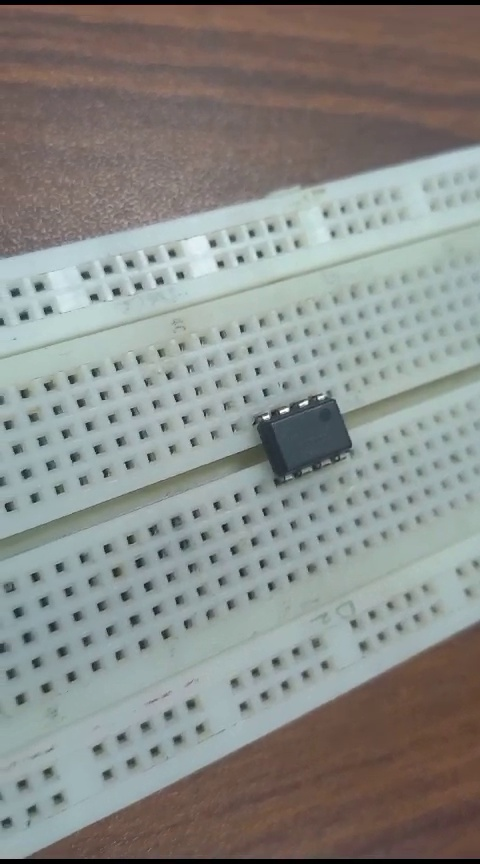IC: (250, 387, 356, 488)
